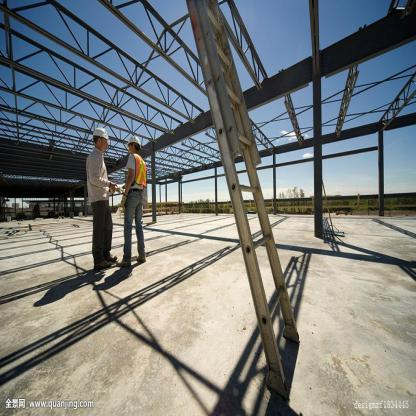helmet: (93, 127, 109, 140), (125, 136, 141, 144)
no-vest: (88, 156, 107, 206)
person: (84, 120, 121, 278), (118, 122, 149, 286)
vest: (129, 152, 148, 190)
